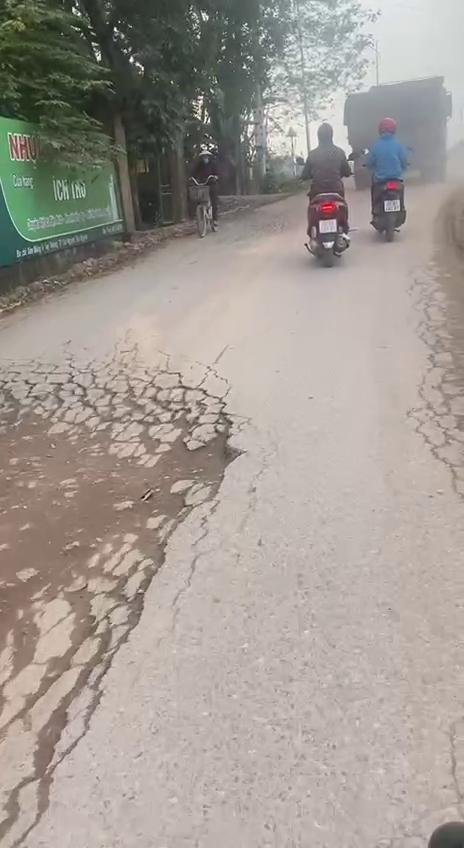pothole: (0, 354, 249, 771)
